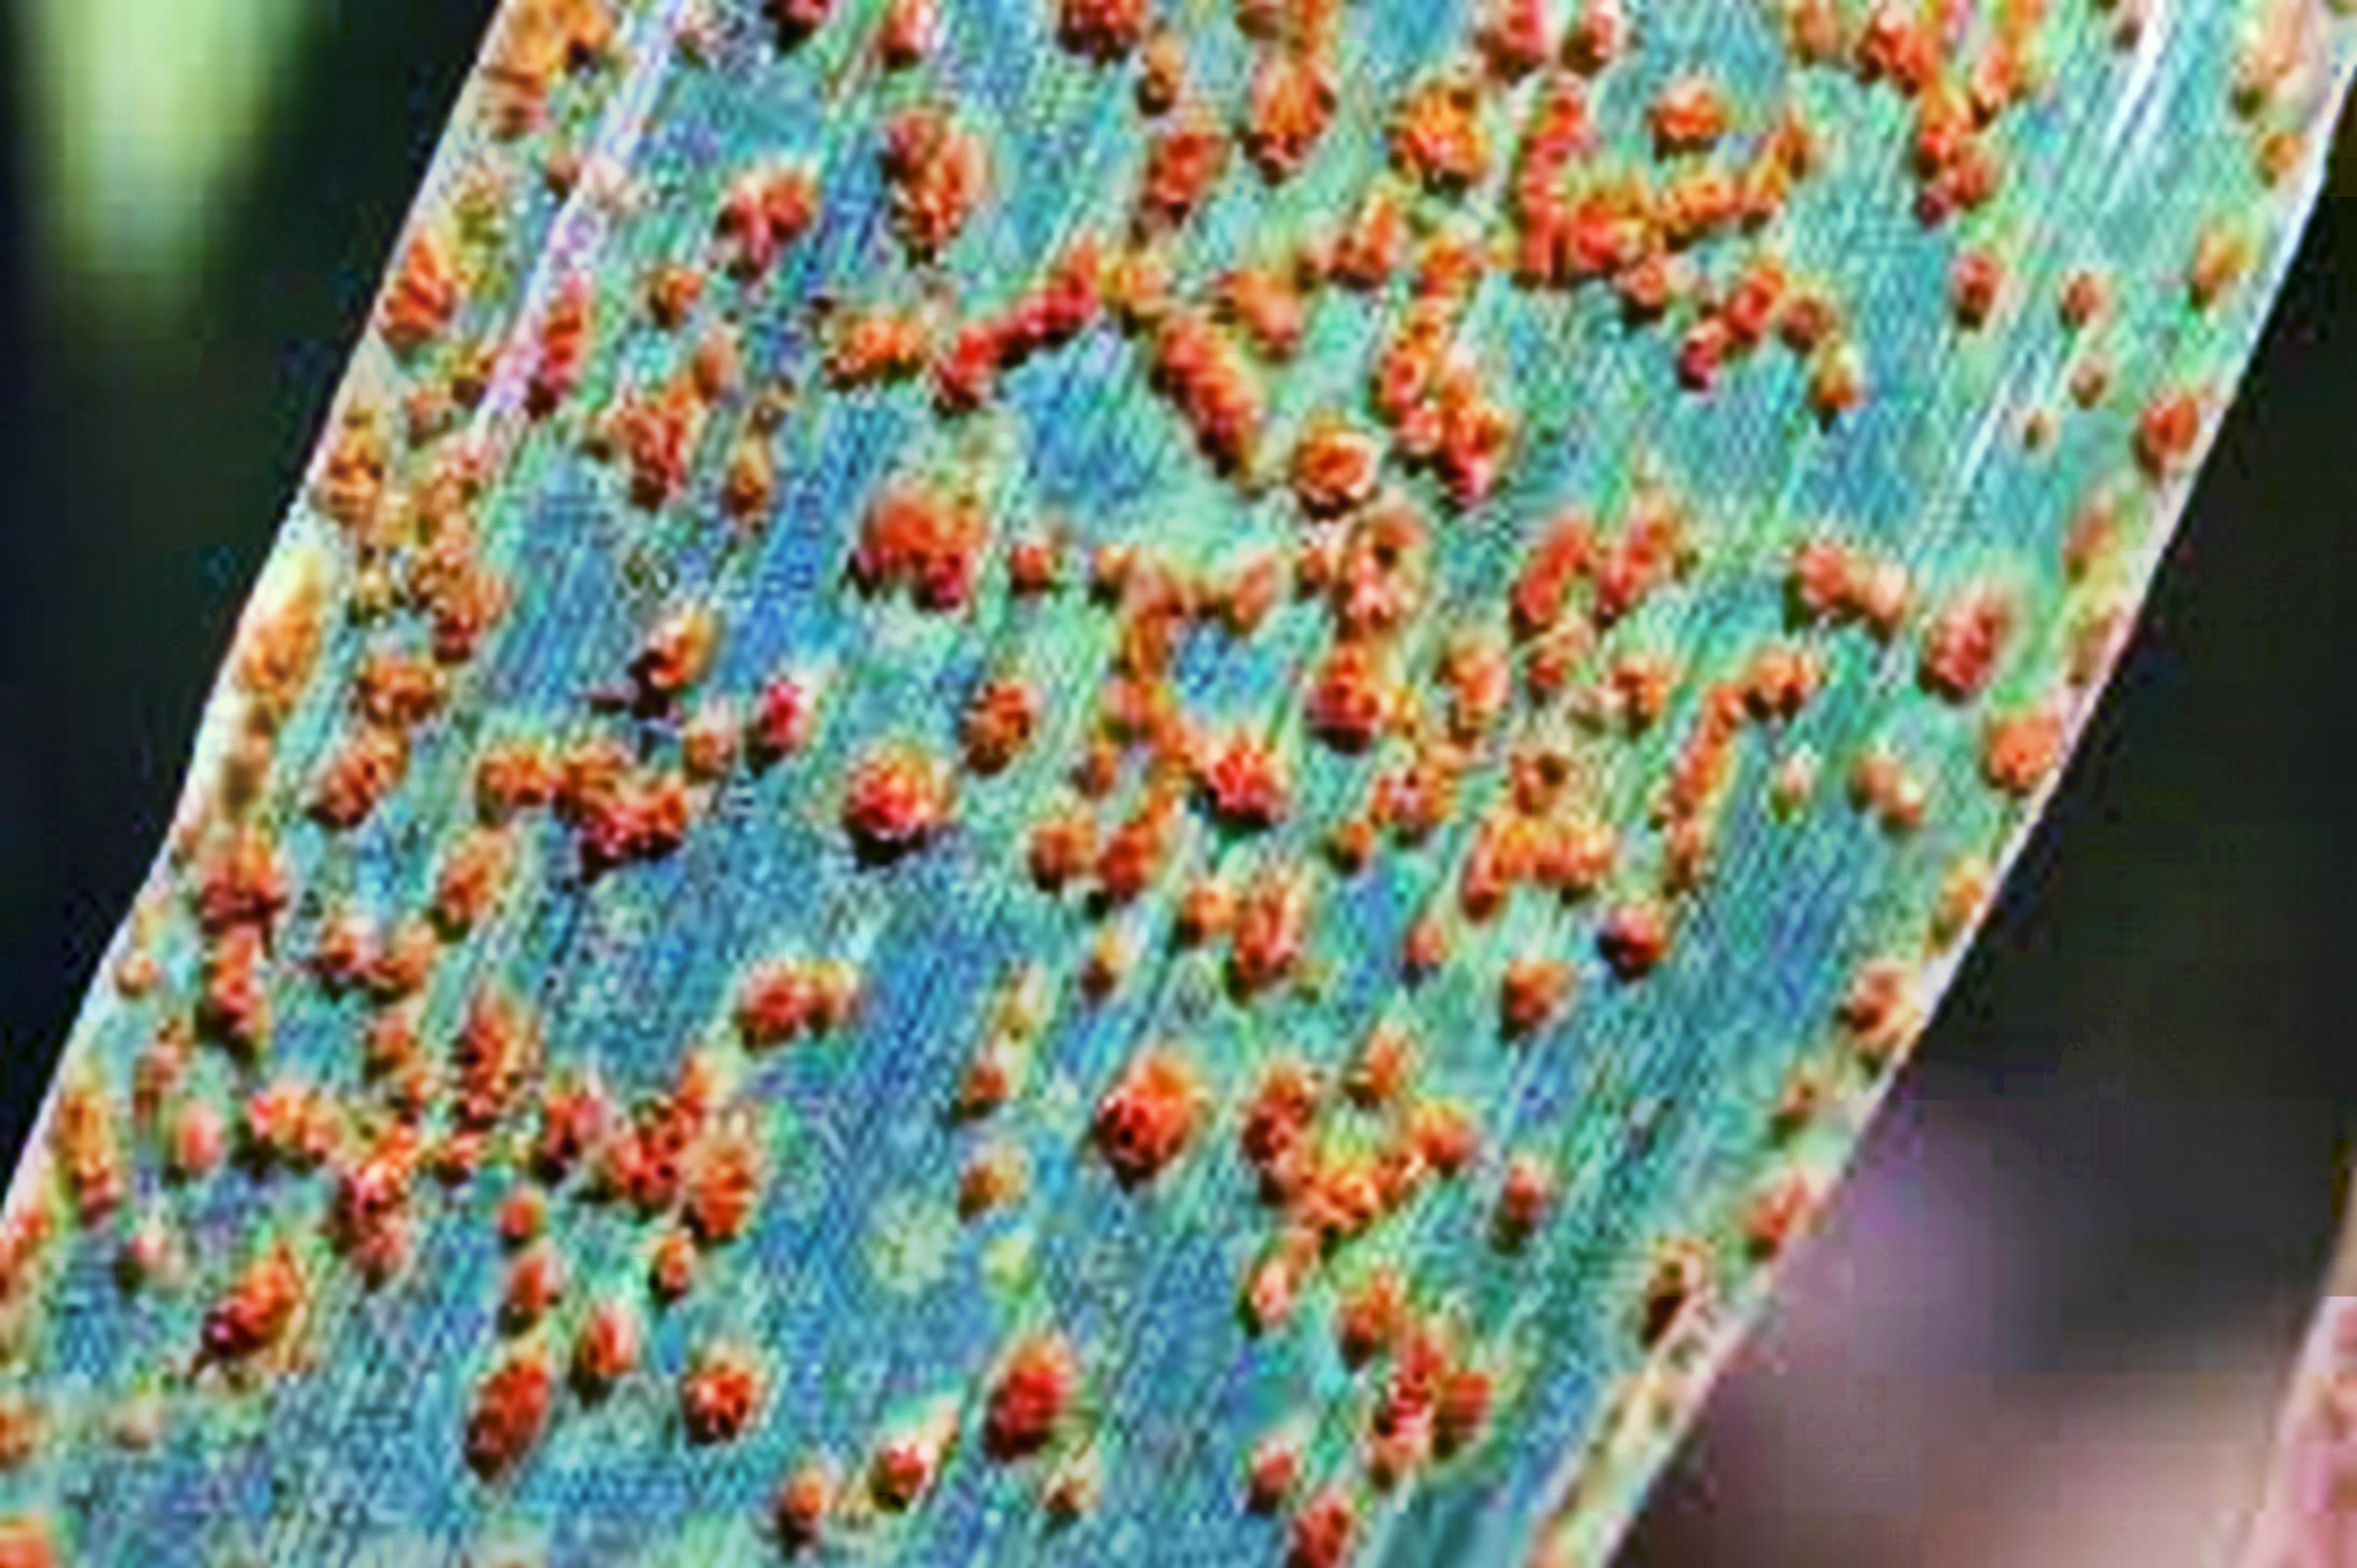Leaf Rust: (240, 175, 1857, 1554)
